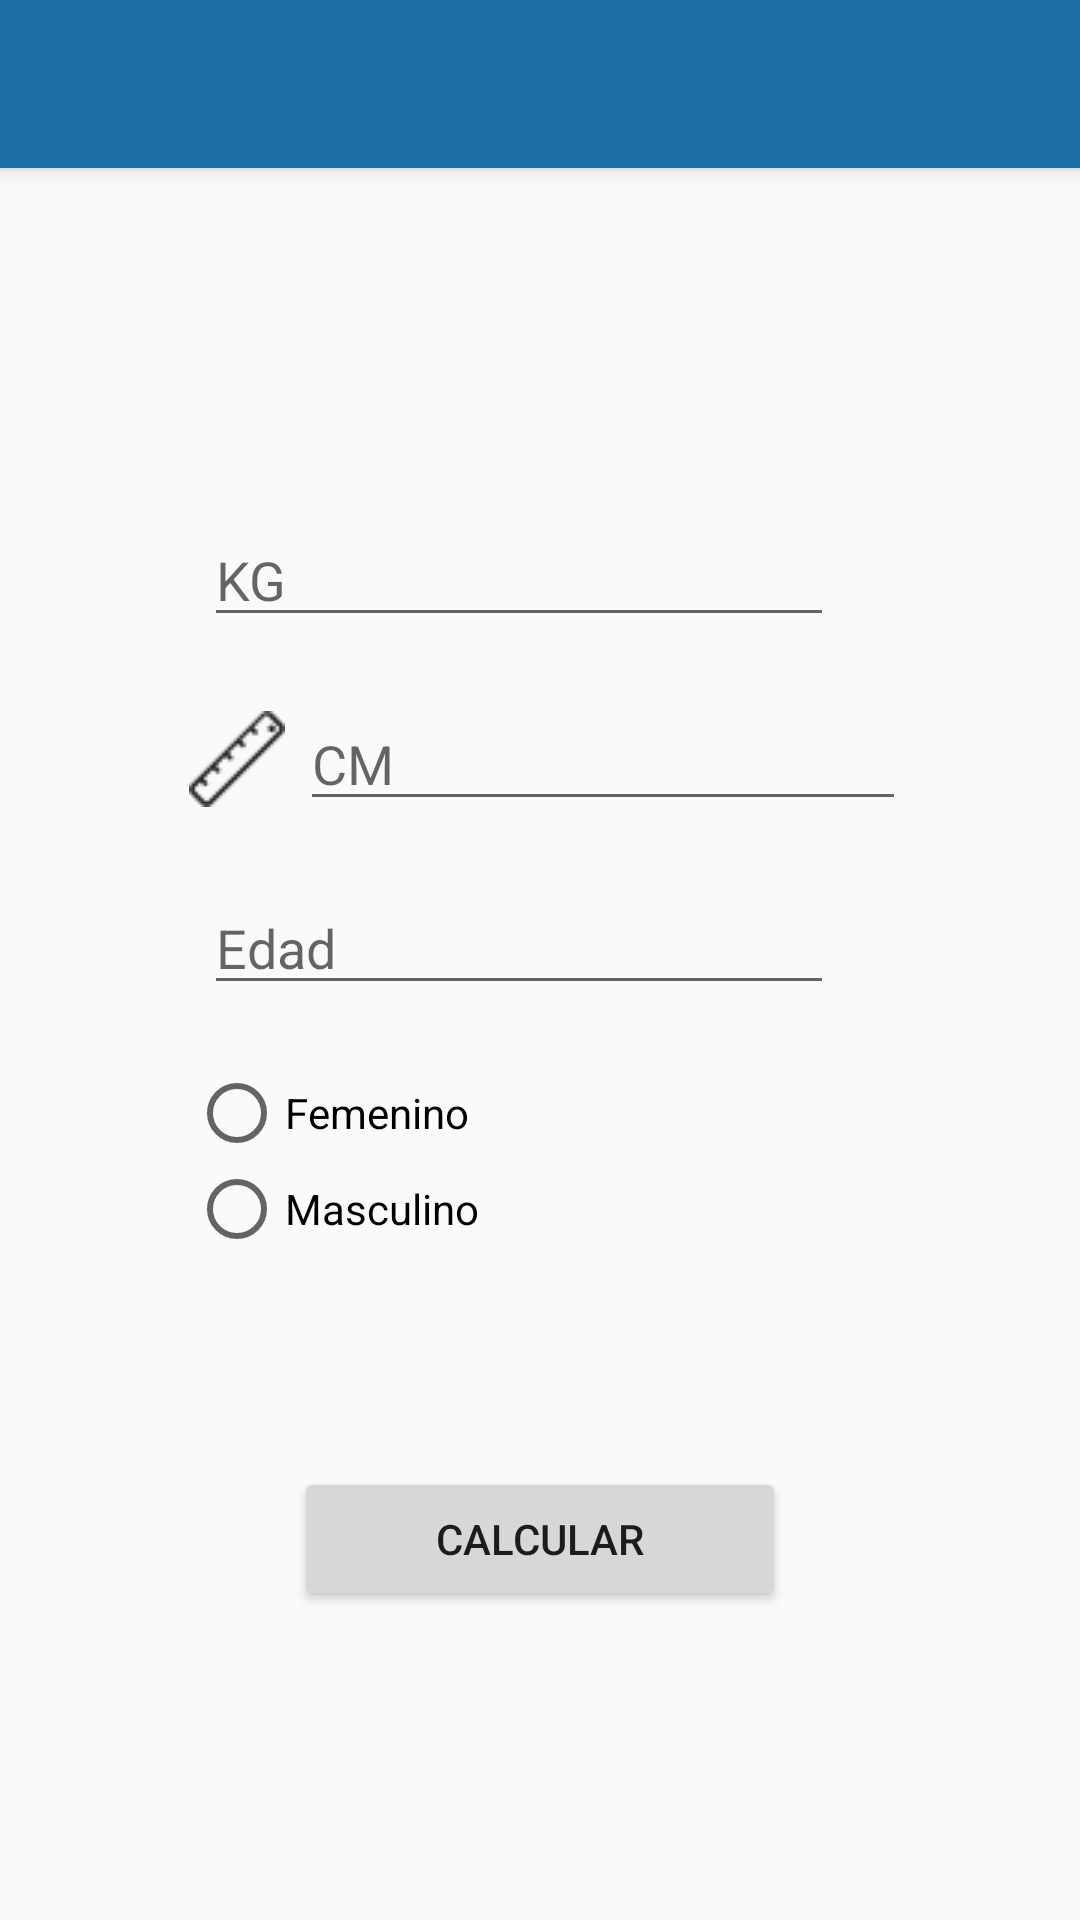

Icon bounding boxes for this 1080 × 1920 phone screenshot, format [left=x1, top=y1, right=x2, bottom=y2]:
height: [left=189, top=711, right=285, bottom=807]
